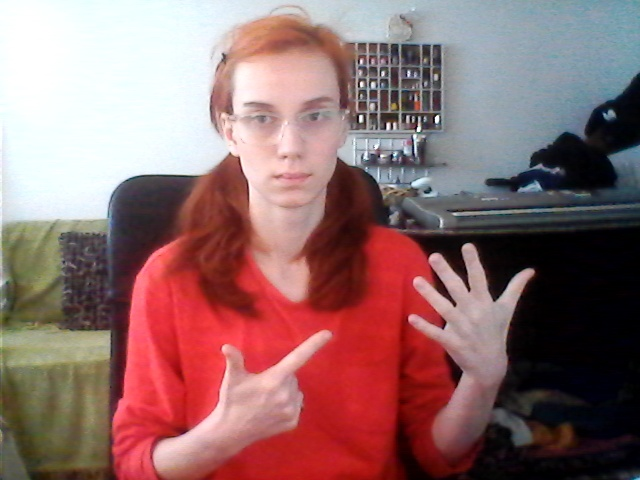sedem: (206, 240, 541, 434)
